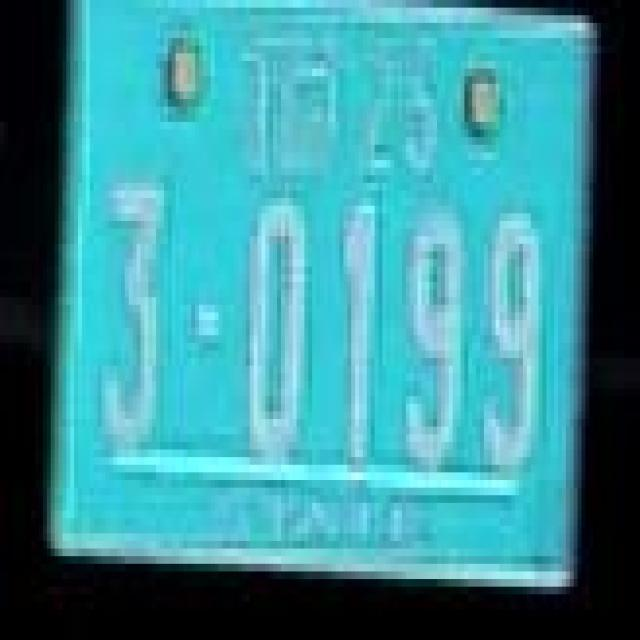State: (242, 38, 338, 186)
